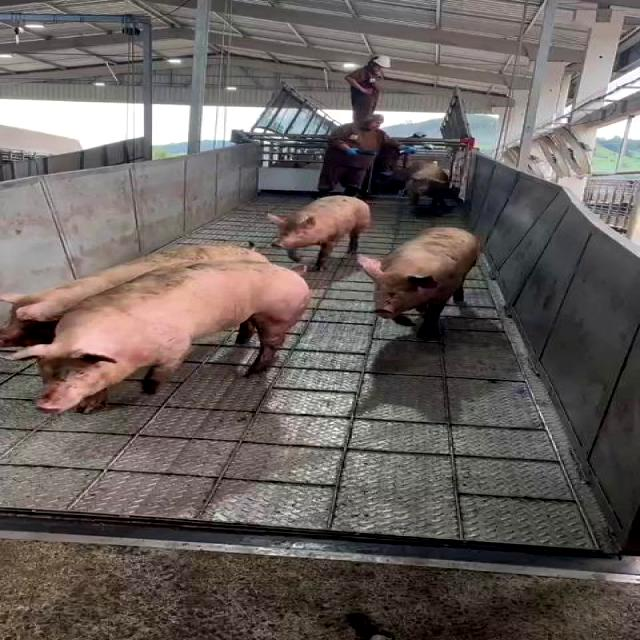pig: (14, 260, 309, 412), (0, 244, 268, 347), (358, 228, 481, 337), (268, 196, 371, 269)
